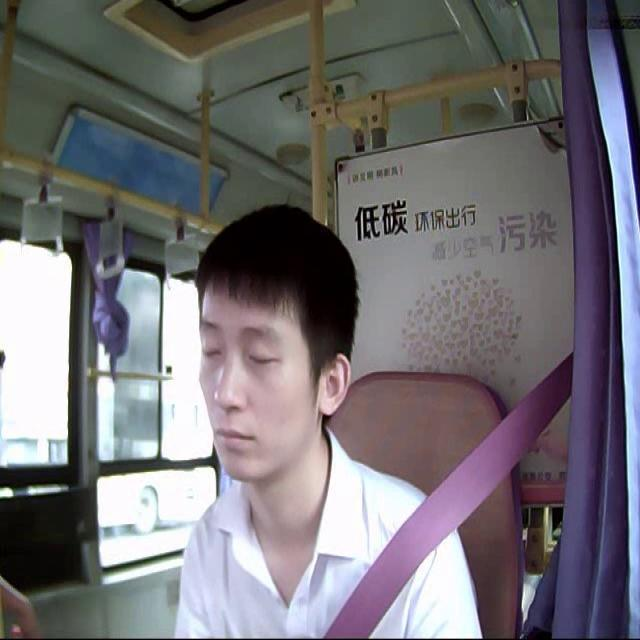Attentive: (189, 203, 362, 482)
Eye-Close: (244, 348, 278, 368), (201, 342, 223, 362)
Normal: (213, 420, 260, 454)
